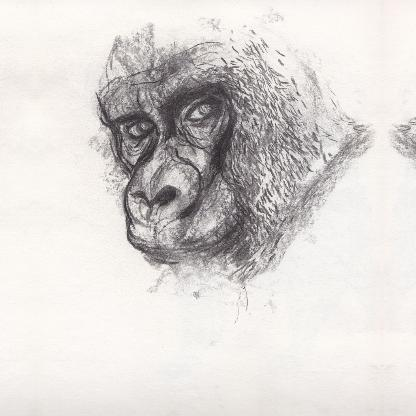Monkey: (70, 20, 378, 346)
